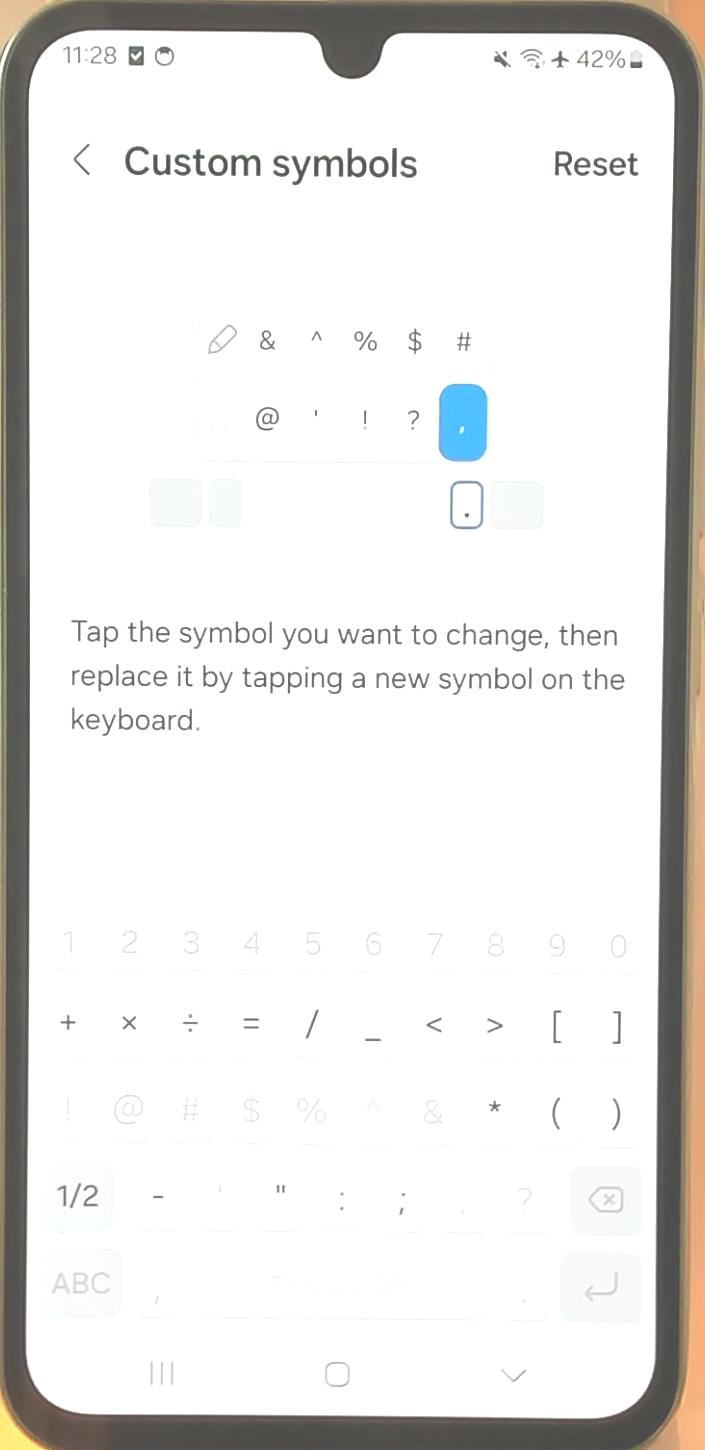CommunBotton: (58, 118, 100, 188)
TextKeyboard: (34, 892, 658, 1334)
